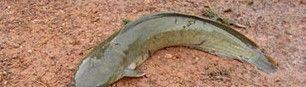Mudfish: (73, 13, 278, 87)
